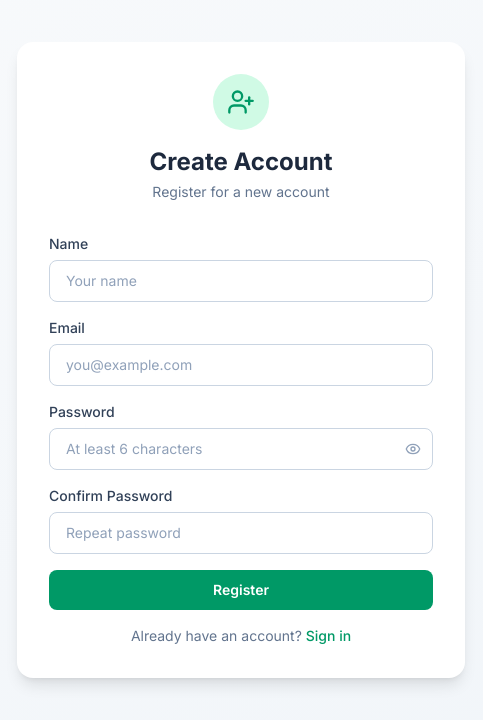
Test case: RegisterPage › handles registration failure with Error
Step 1. Type "Test User" into the field labelled "Name" → {"x": 241, "y": 281}, box [49,260,433,302]
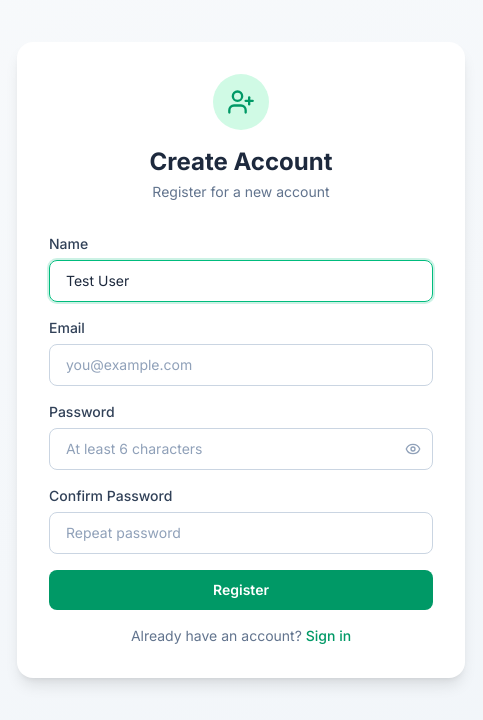
Step 2. Type "test@test.com" into the field labelled "Email" → {"x": 241, "y": 365}, box [49,344,433,386]
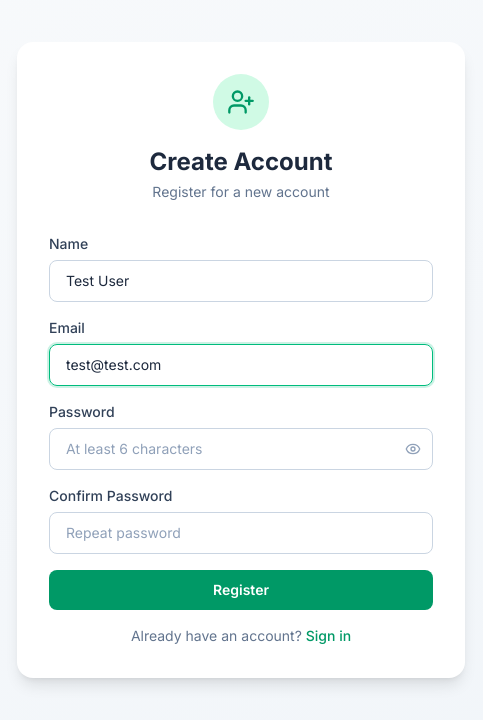
Step 3. Type "password123" into the password field labelled "Password" → {"x": 241, "y": 449}, box [49,428,433,470]
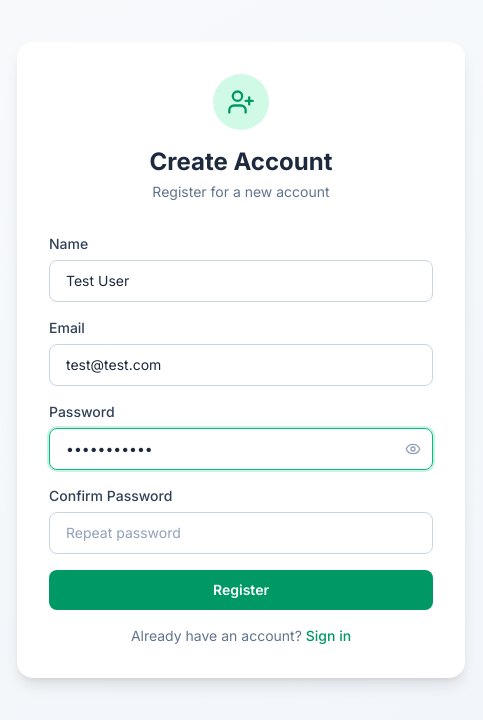
Step 4. Type "password123" into the password field labelled "Confirm Password" → {"x": 241, "y": 533}, box [49,512,433,554]
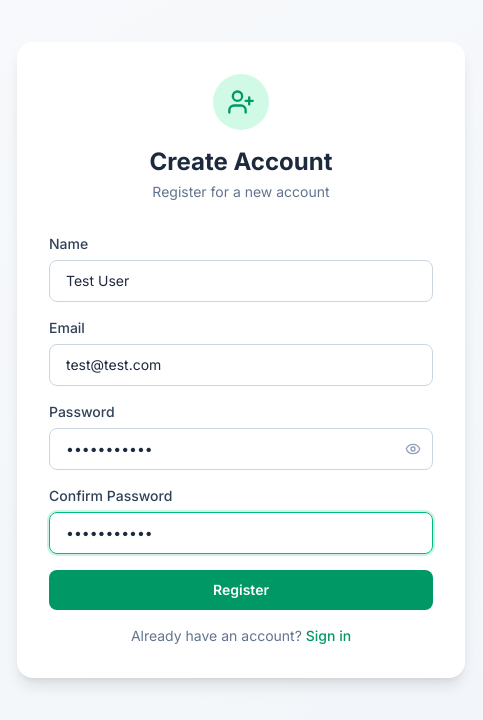
Step 5. Click the button "Register" → {"x": 241, "y": 590}, box [49,570,433,610]
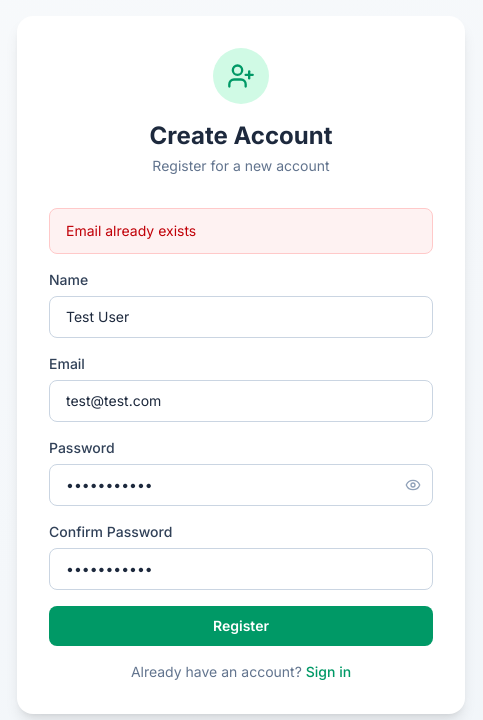
Result: the text "Email already exists" is shown at [49,208,433,254]
